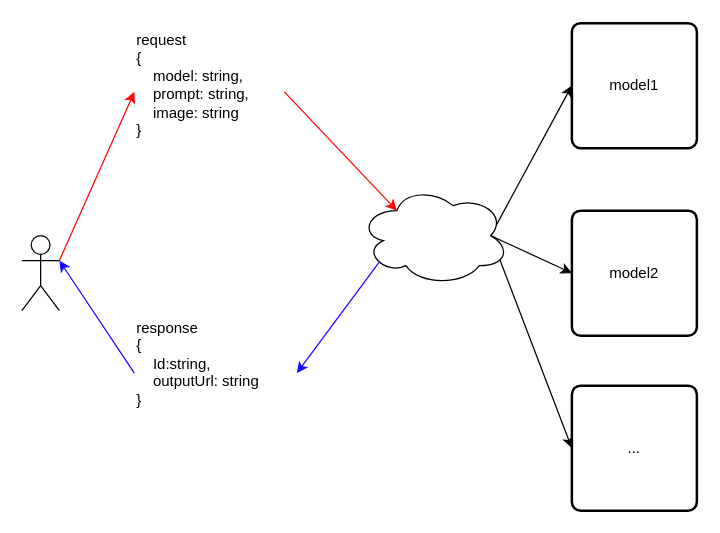
Some shapes in this 720 by 533 pixel diagram are drawn without their labels. The centre of each missing label's shape, as x and y in pixels:
client: (40,272)
RESTful API: (433,235)
